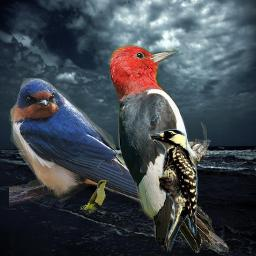Cuckoo: (80, 179, 109, 214)
Swallow: (9, 78, 229, 252)
Woodpecker: (110, 43, 217, 253), (148, 129, 200, 252)
